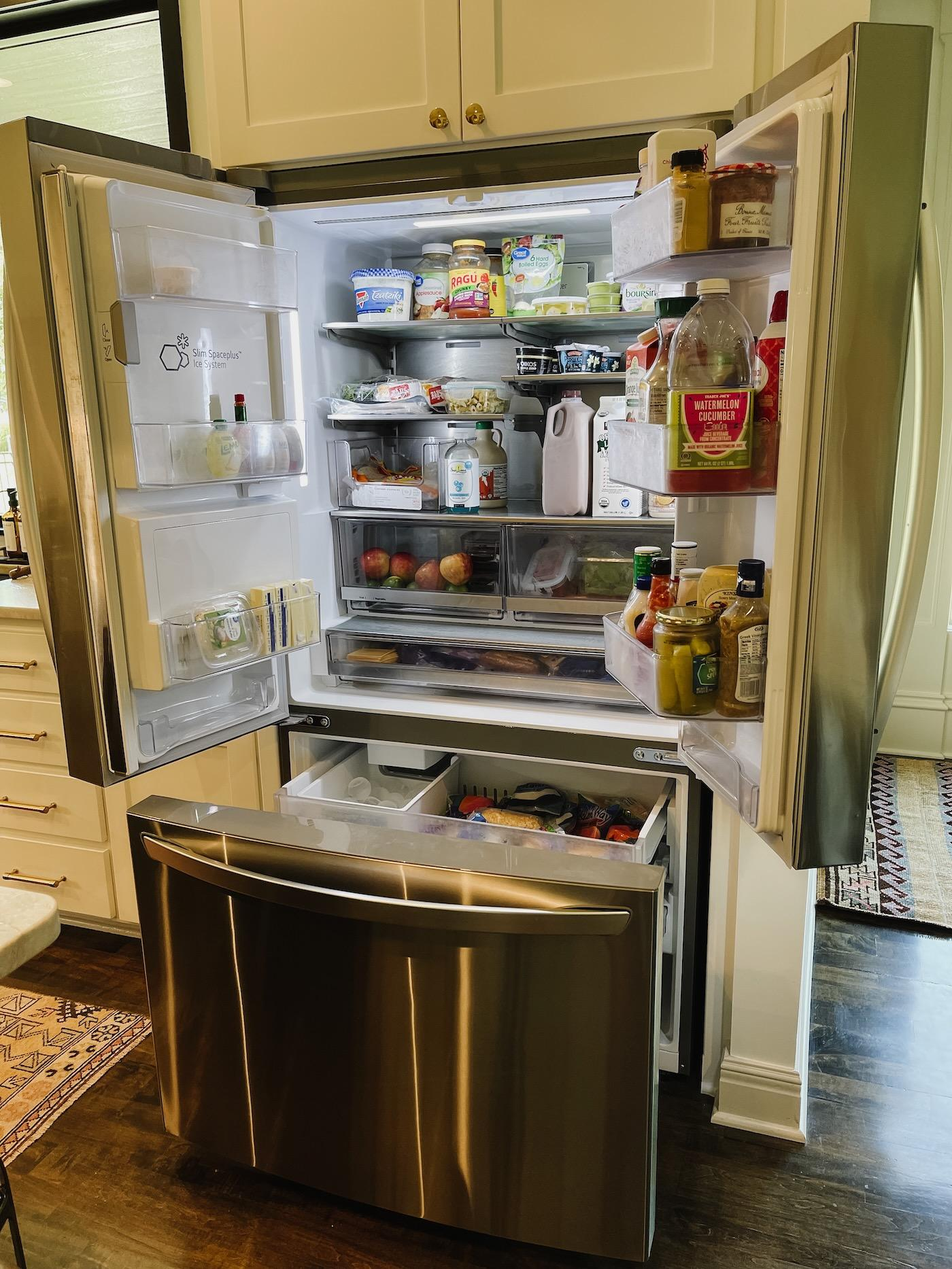apple: (358, 518, 508, 599)
